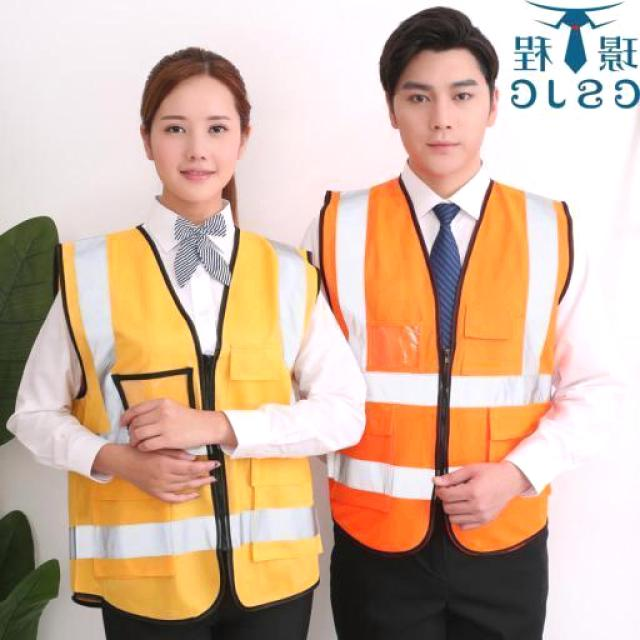face_nomask: (402, 75, 488, 160), (153, 112, 238, 194)
hand_noglove: (431, 450, 518, 534), (119, 388, 222, 458), (134, 434, 228, 507)
head_nohelmet: (382, 1, 500, 70), (138, 36, 252, 106)
person: (0, 24, 368, 640), (282, 2, 590, 640)
vest: (61, 227, 326, 619), (317, 173, 579, 553)
